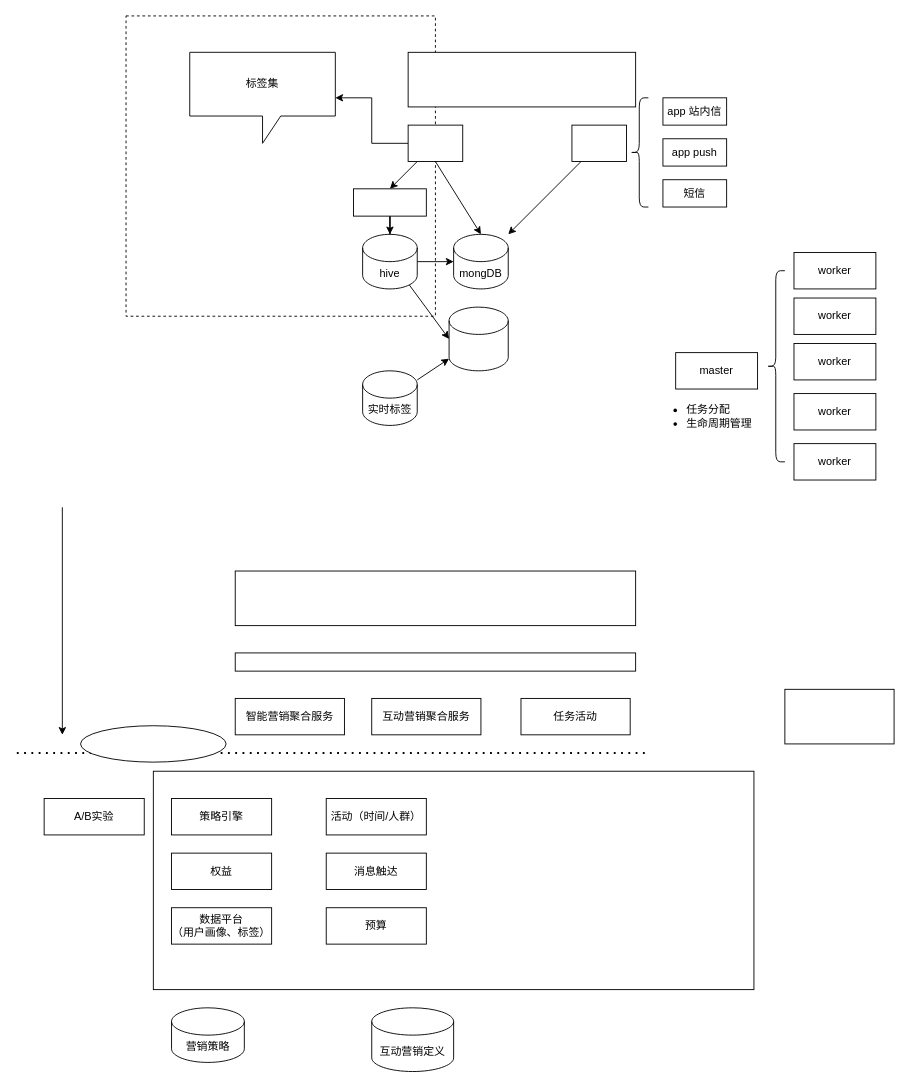
Some shapes in this 910 by 1087 pixel diagram are drawn without their labels. Each missing label, with the box of its shape:
app: (234, 570, 636, 626)
人群圈选: (407, 124, 463, 162)
人群圈选地表: (448, 306, 508, 371)
命中哪些活动: (80, 725, 226, 762)
圈选任务生成: (353, 188, 426, 216)
消息推送: (571, 124, 627, 162)
网关: (234, 652, 636, 671)
营销触达系统: (407, 51, 636, 107)
运营平台: (784, 688, 894, 744)
